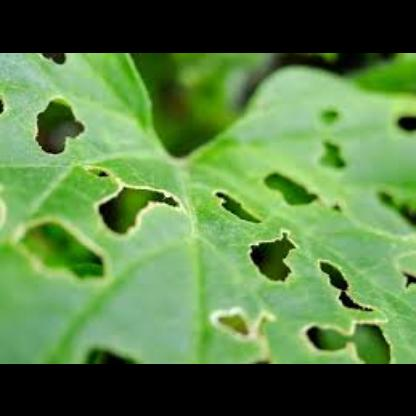agujero: (5, 219, 121, 281), (86, 160, 180, 233), (32, 85, 86, 158), (308, 322, 402, 362), (313, 256, 375, 316), (244, 228, 304, 282), (260, 162, 318, 216), (212, 186, 266, 230), (210, 298, 256, 346), (82, 338, 134, 364), (318, 138, 354, 171), (396, 115, 416, 137), (404, 270, 416, 294), (326, 198, 346, 212)
